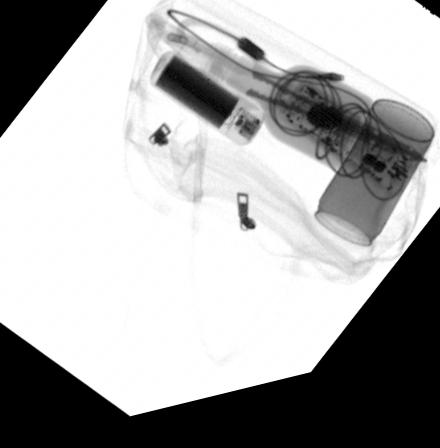Powerbank: (148, 58, 266, 160)
Scissors: (194, 50, 429, 187)
